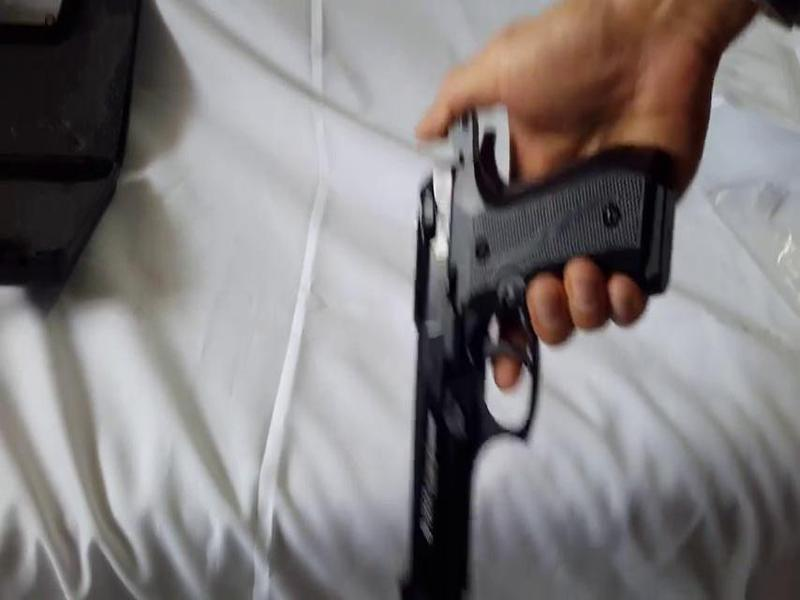Pistola: (377, 82, 730, 600)
